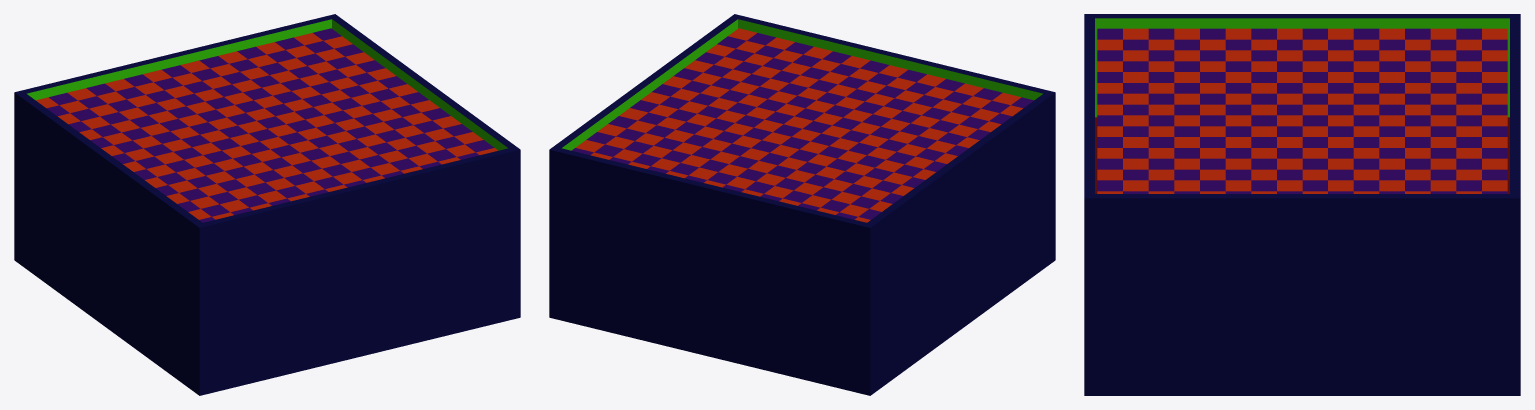
3 views of the same model, side by side, from view 1: azimuth 30°, elevation 25°; view 2: azimuth 150°, elevation 25°; view 3: azimuth 270°, elevation 25° (orthographic). The views are drawn at different scales.
Visible parts, largest first — view 1: Box002; view 2: Box002; view 3: Box002.
Part boxes in pixels (<box>): Box002: <box>14,14,520,395</box>; Box002: <box>549,14,1055,395</box>; Box002: <box>1084,14,1520,395</box>.
Bounding box in the file's own units: 40 × 20 × 40.
